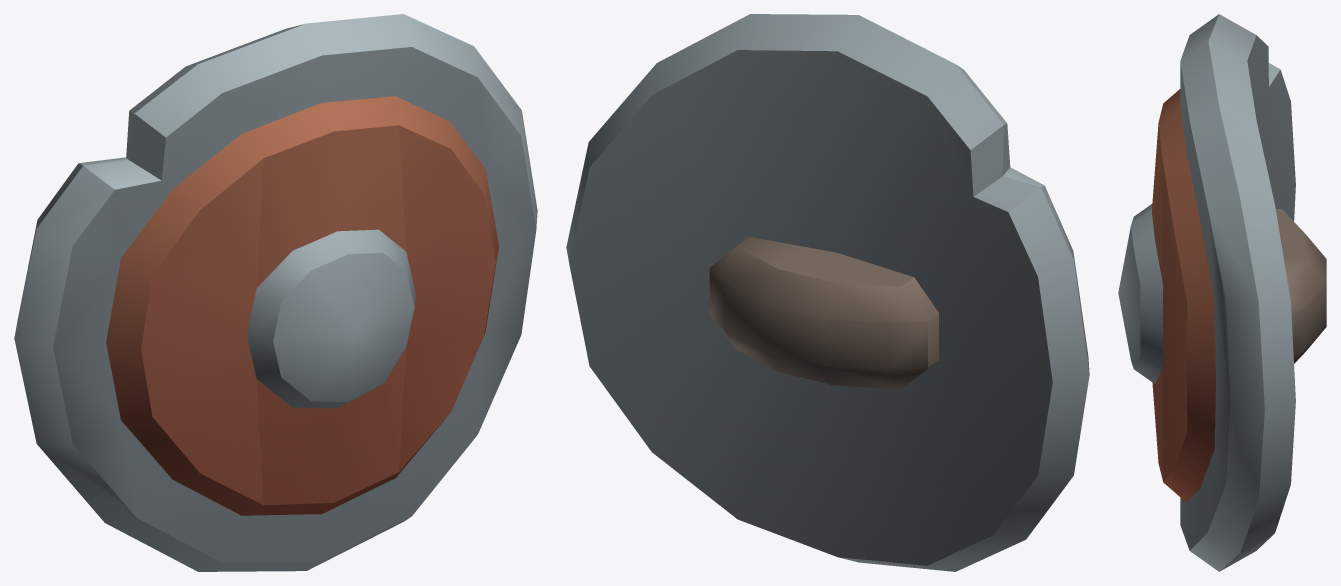
3 renders of one model, left to right at view 1: azimuth 30°, elevation 25°; view 2: azimuth 150°, elevation 25°; view 3: azimuth 270°, elevation 25°, orthographic. The views are drawn at different scales.
Visible parts, largest first — view 1: shield_round; view 2: shield_round; view 3: shield_round.
Part boxes in pixels (x1,y1,x2,y2): shield_round: (14,14,537,571); shield_round: (566,14,1089,571); shield_round: (1118,14,1326,571).
Bounding box in the file's own units: 0.8826 × 0.8826 × 0.3319.
Materials: 1 (1 with a texture image).
